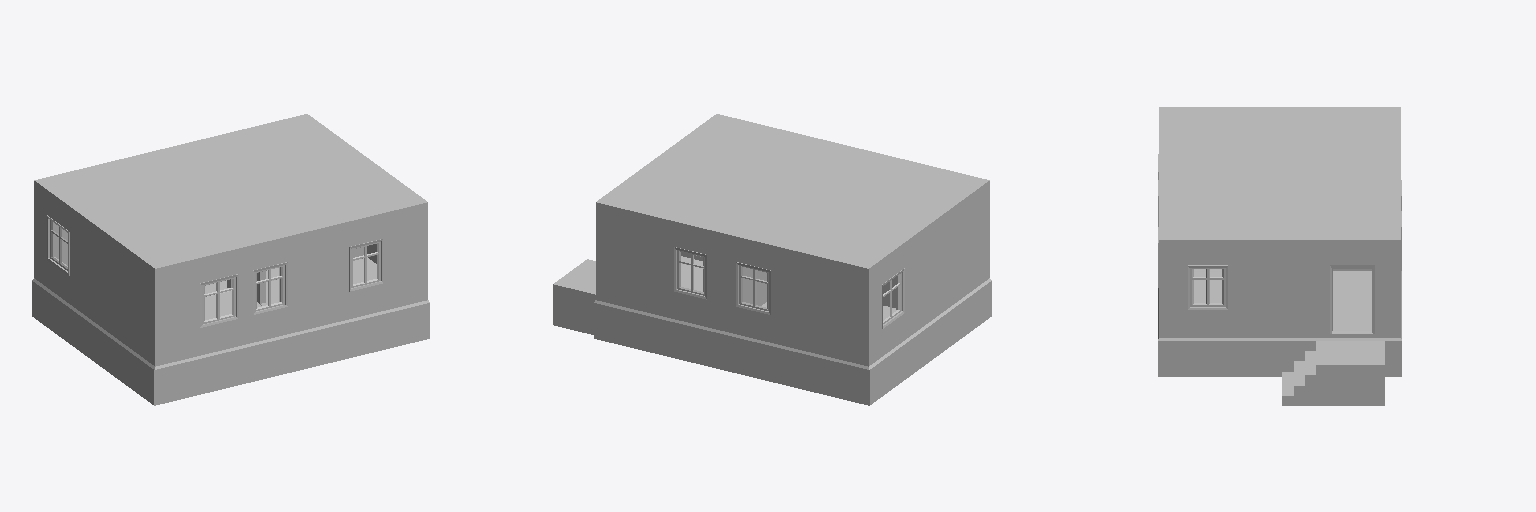
The model's file is House2.obj.
3 renders of one model, left to right at view 1: azimuth 30°, elevation 25°; view 2: azimuth 150°, elevation 25°; view 3: azimuth 270°, elevation 25°, orthographic.
Parts seen in each view (by area): view 1: Cube_001; view 2: Cube_001; view 3: Cube_001.
Part boxes in pixels (x1,y1,x2,y2): Cube_001: (32, 114, 429, 405); Cube_001: (553, 114, 991, 405); Cube_001: (1158, 107, 1401, 405).
Bounding box in the file's own units: 194 × 80.6 × 126.